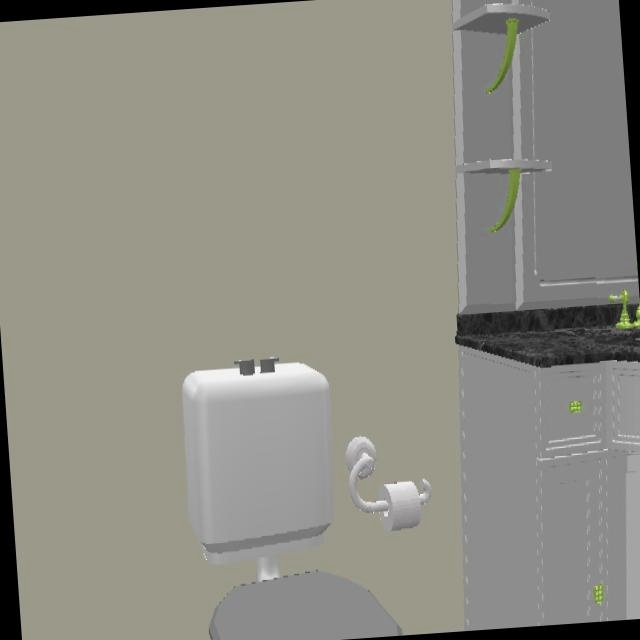toilet: (181, 358, 380, 640)
